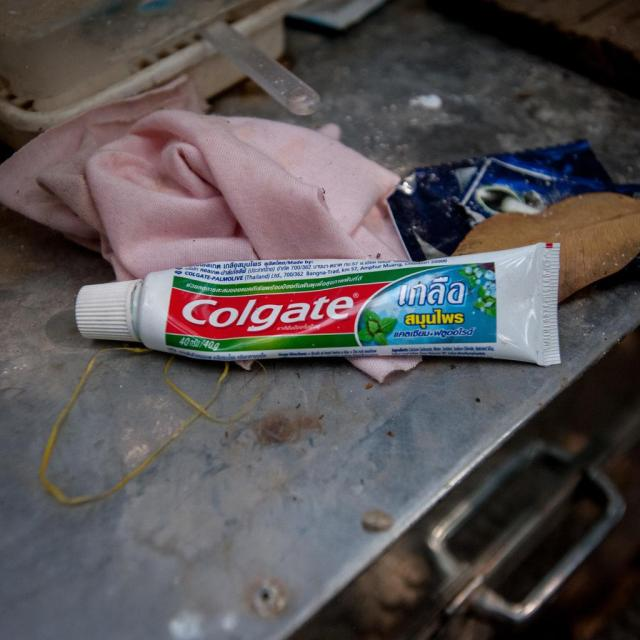Toothpaste: (62, 238, 578, 372)
